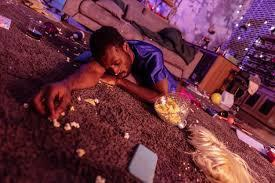Drunk: (100, 42, 130, 78)
